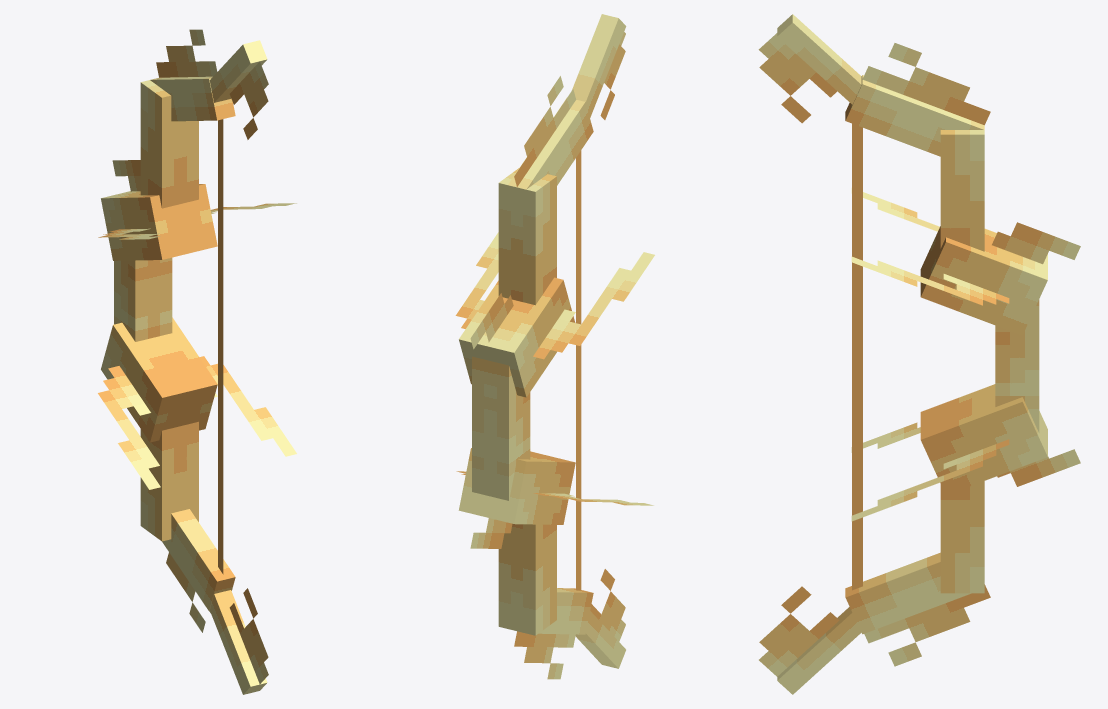
Rendered from archer_bow_spirit_dragon_2.gltf.
The picture shows the model from 3 angles, left to right: view 1: azimuth 30°, elevation 25°; view 2: azimuth 150°, elevation 25°; view 3: azimuth 270°, elevation 25°; orthographic projection. The views are drawn at different scales.
Parts seen in each view (by area): view 1: cube (×17); view 2: cube (×18); view 3: cube (×20).
Part boxes in pixels (left/top/right/bottom): cube (×17): left=98, top=29, right=296, bottom=694; cube (×18): left=455, top=14, right=654, bottom=679; cube (×20): left=758, top=14, right=1080, bottom=694.
Bounding box in the file's own units: 1.22 × 3.15 × 1.54.
Materials: 1 (1 with a texture image).
